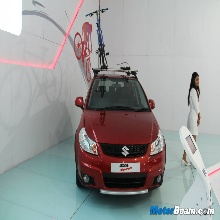no damage: (73, 68, 168, 198)
